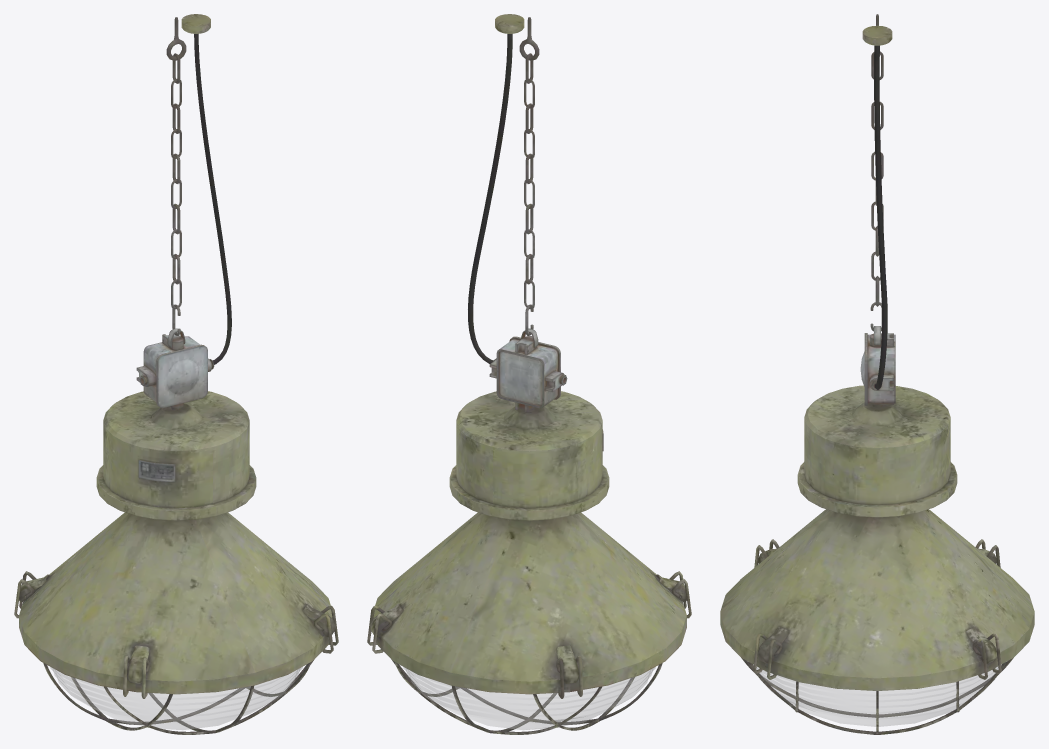
Rendered from hanging_industrial_lamp.glb.
3 views of the same model, side by side, from view 1: azimuth 30°, elevation 25°; view 2: azimuth 150°, elevation 25°; view 3: azimuth 270°, elevation 25° (orthographic).
Parts seen in each view (by area): view 1: hanging_industrial_lamp; view 2: hanging_industrial_lamp; view 3: hanging_industrial_lamp.
Boxes of the visible parts, x1,y1,x2,y2 form: hanging_industrial_lamp: (14,14,338,734); hanging_industrial_lamp: (367,14,691,734); hanging_industrial_lamp: (720,14,1034,734).
Size of the model in its own units: 0.5497 by 1.36 by 0.5497.
Materials: 2 (1 with a texture image).
